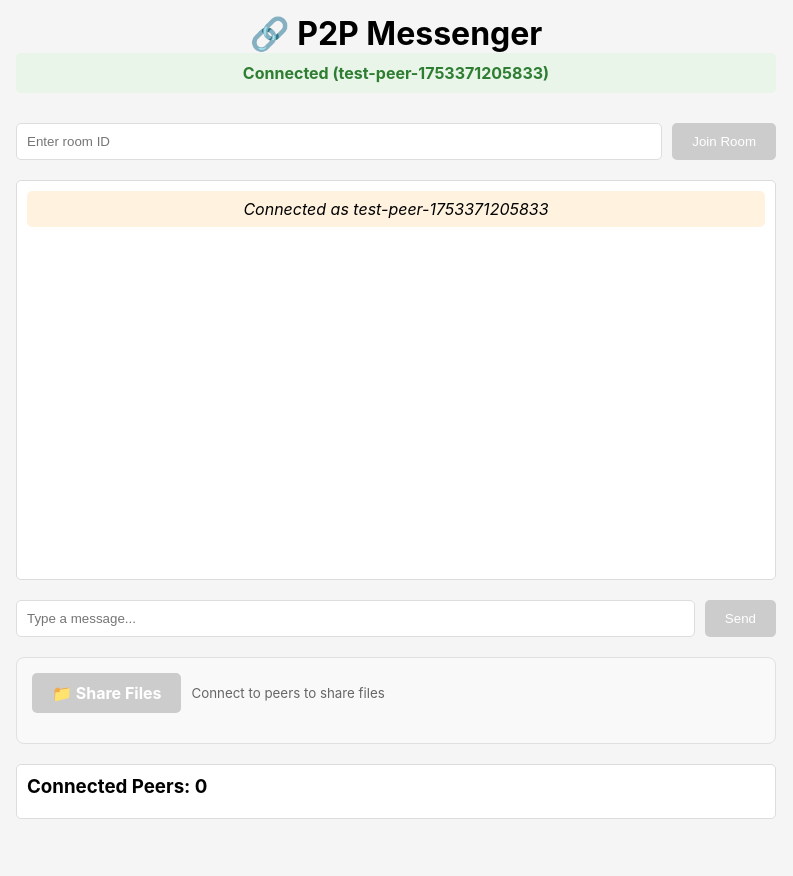
Test case: App Component - Real Code Tests › should test real room joining workflow
This screenshot has width=793, height=876.
expect the text "Connected (test-peer-1753371205833)" is shown: met, box x1=16 y1=53 x2=776 y2=93
// Test real user interaction
Type "test-room-123" into the field with placeholder "Enter room ID" at [339, 142], box x1=16 y1=123 x2=662 y2=160
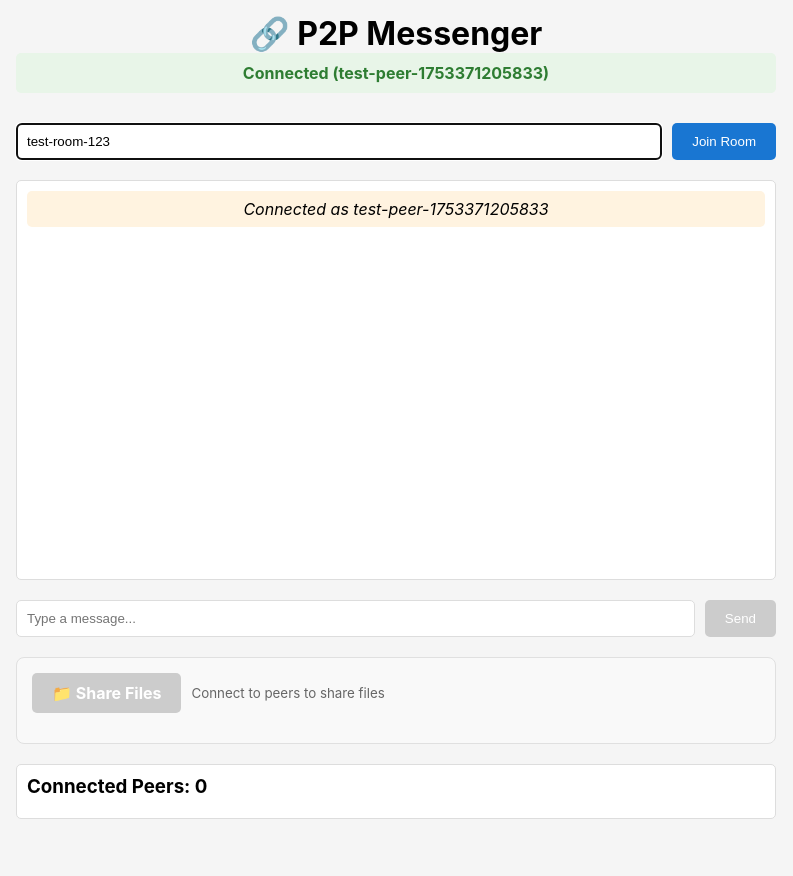
expect the button "Join Room" is enabled: met
Click the button "Join Room" at [724, 142], box x1=672 y1=123 x2=776 y2=160
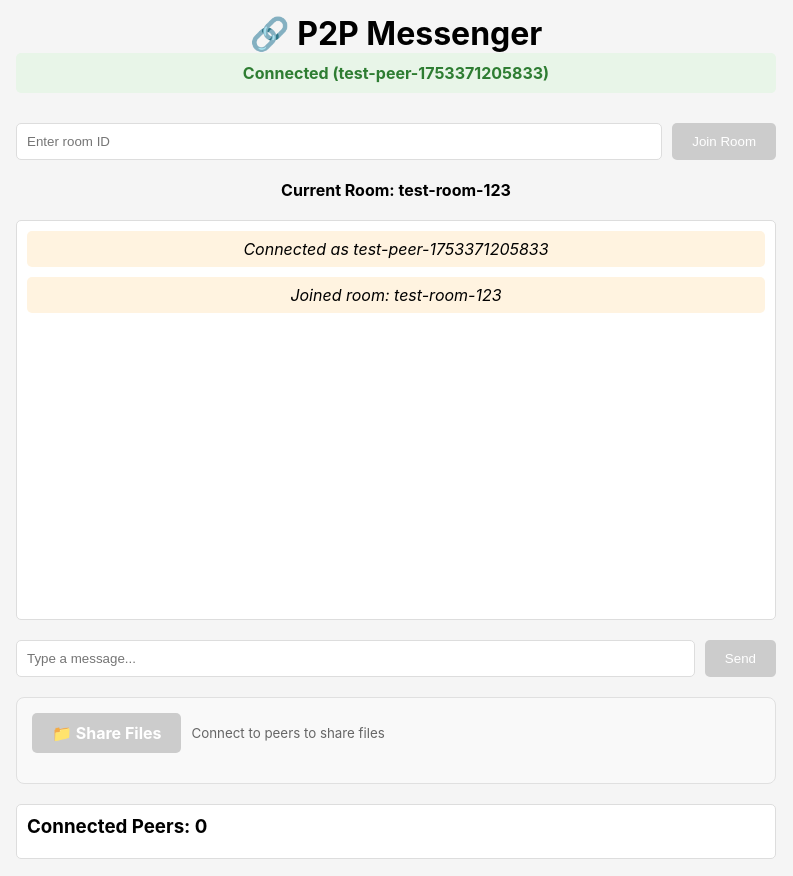
expect the text "Current Room: test-room-123" is shown: met, box x1=281 y1=180 x2=511 y2=200
expect the field with placeholder "Enter room ID" is empty: met, box x1=16 y1=123 x2=662 y2=160
